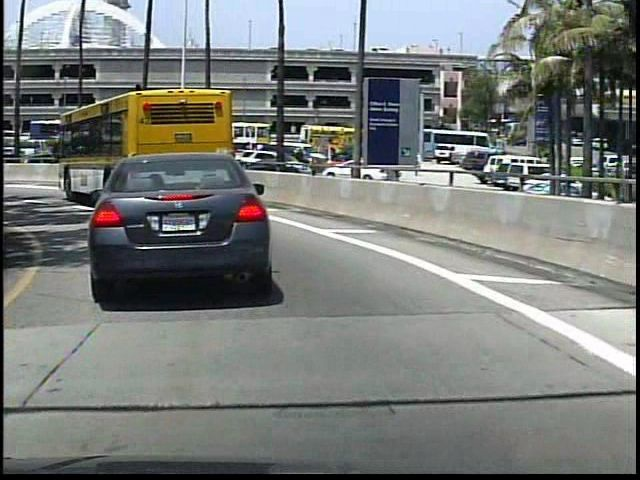person: (292, 145, 308, 177)
